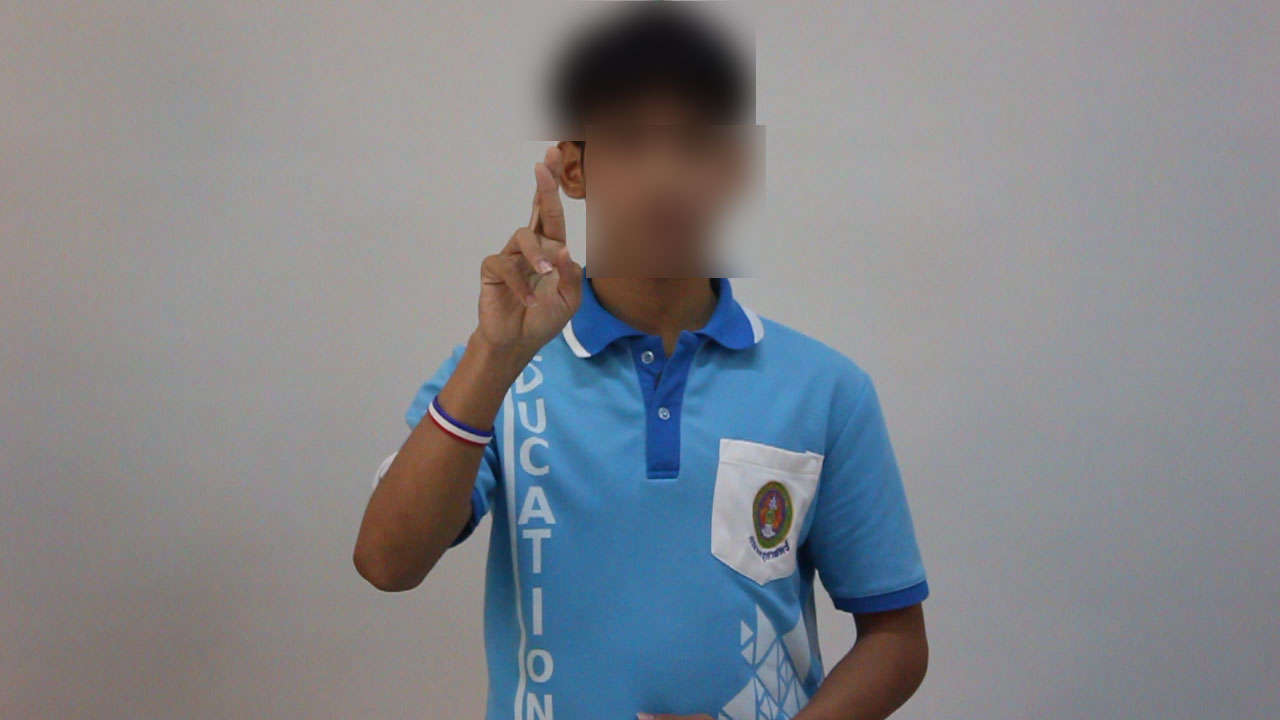rao: (448, 139, 588, 342)
